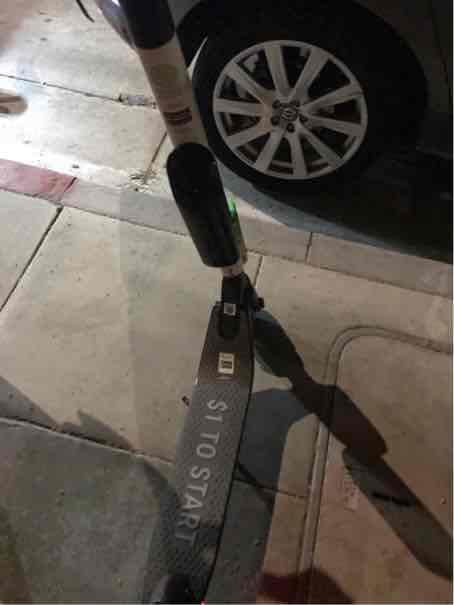scooter: (9, 25, 309, 605)
